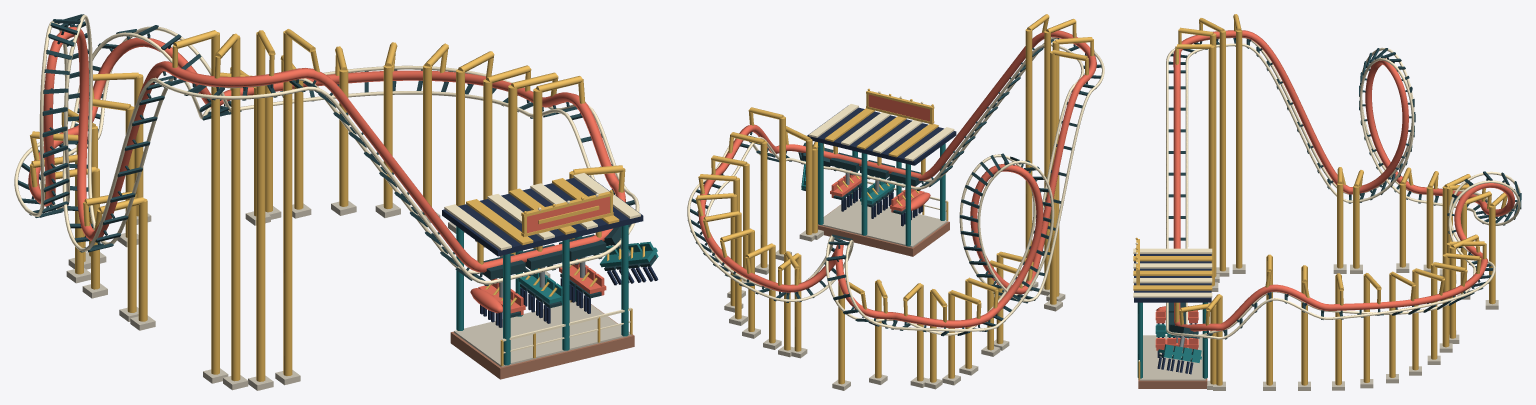
The model's file is ride_inverted.glb.
3 renders of one model, left to right at view 1: azimuth 30°, elevation 25°; view 2: azimuth 150°, elevation 25°; view 3: azimuth 270°, elevation 25°, orthographic. The views are drawn at different scales.
Parts seen in each view (by area): view 1: ride_inverted; view 2: ride_inverted; view 3: ride_inverted.
Boxes of the visible parts, left/top/right/bottom form: ride_inverted: left=14, top=14, right=658, bottom=390; ride_inverted: left=687, top=14, right=1104, bottom=390; ride_inverted: left=1133, top=14, right=1521, bottom=390.
Bounding box in the file's own units: 18.19 × 12.64 × 17.94.
